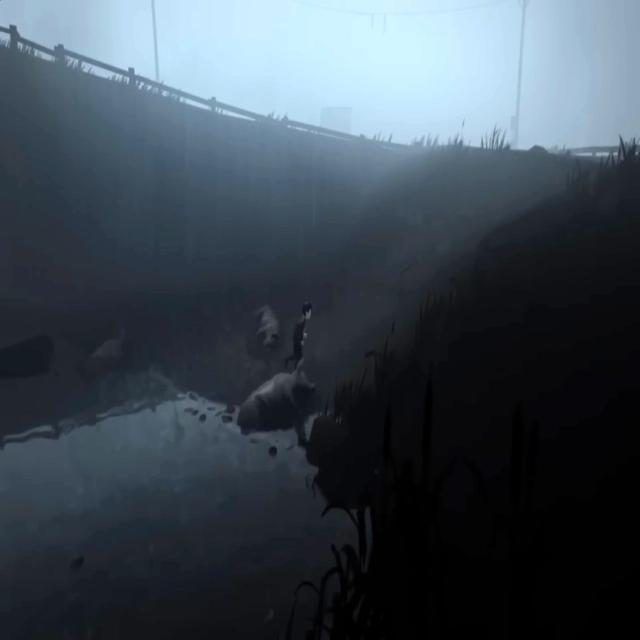boy: (284, 302, 311, 376)
